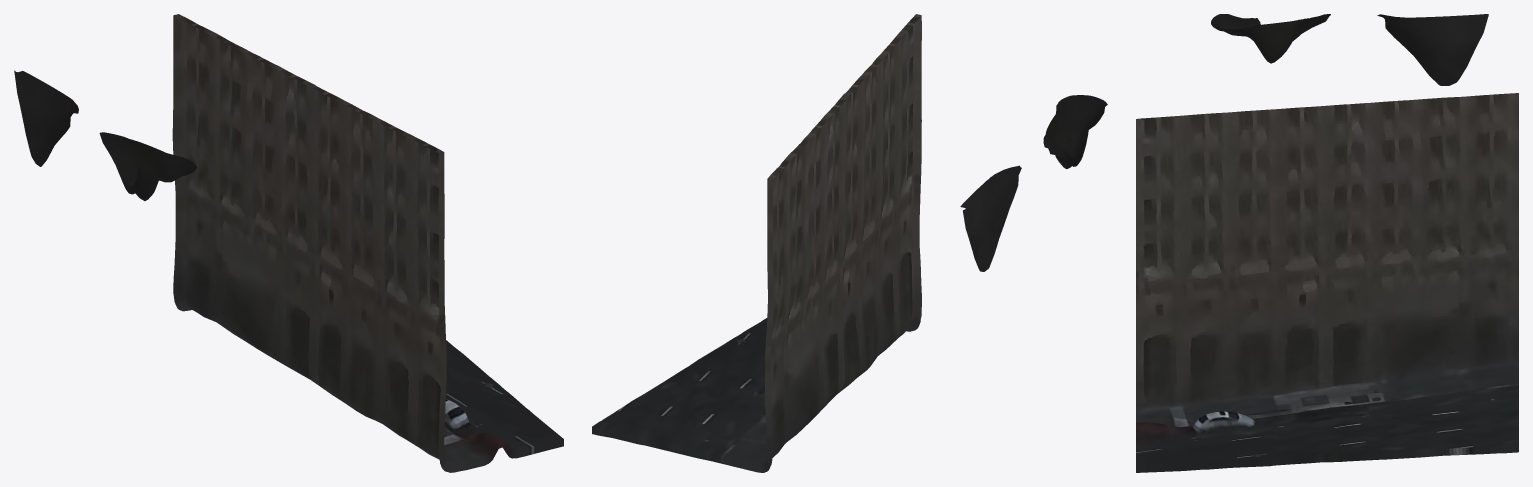
The model's file is z20-167763-405234-h0-yup-uvflip-v3-world.glb.
3 renders of one model, left to right at view 1: azimuth 30°, elevation 25°; view 2: azimuth 150°, elevation 25°; view 3: azimuth 270°, elevation 25°, orthographic. The views are drawn at different scales.
Bounding box in the file's own units: 30.2 × 26.08 × 30.32.
Materials: 1 (1 with a texture image).
